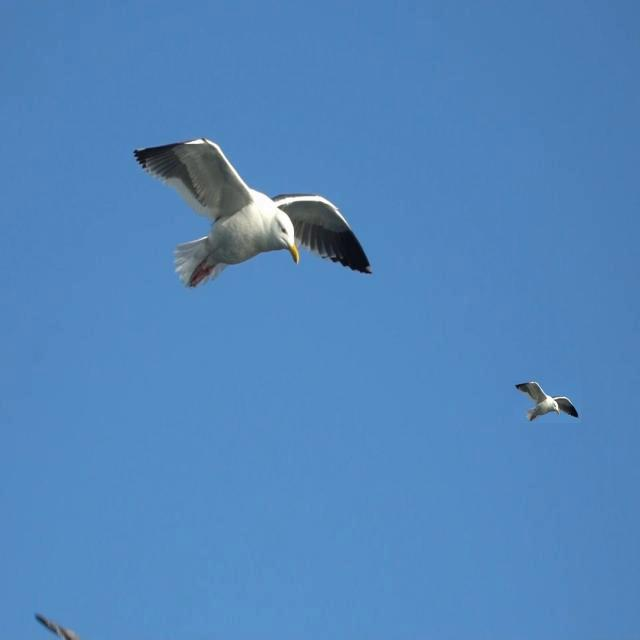bird: (133, 138, 380, 290), (514, 381, 578, 423), (31, 612, 82, 640)
